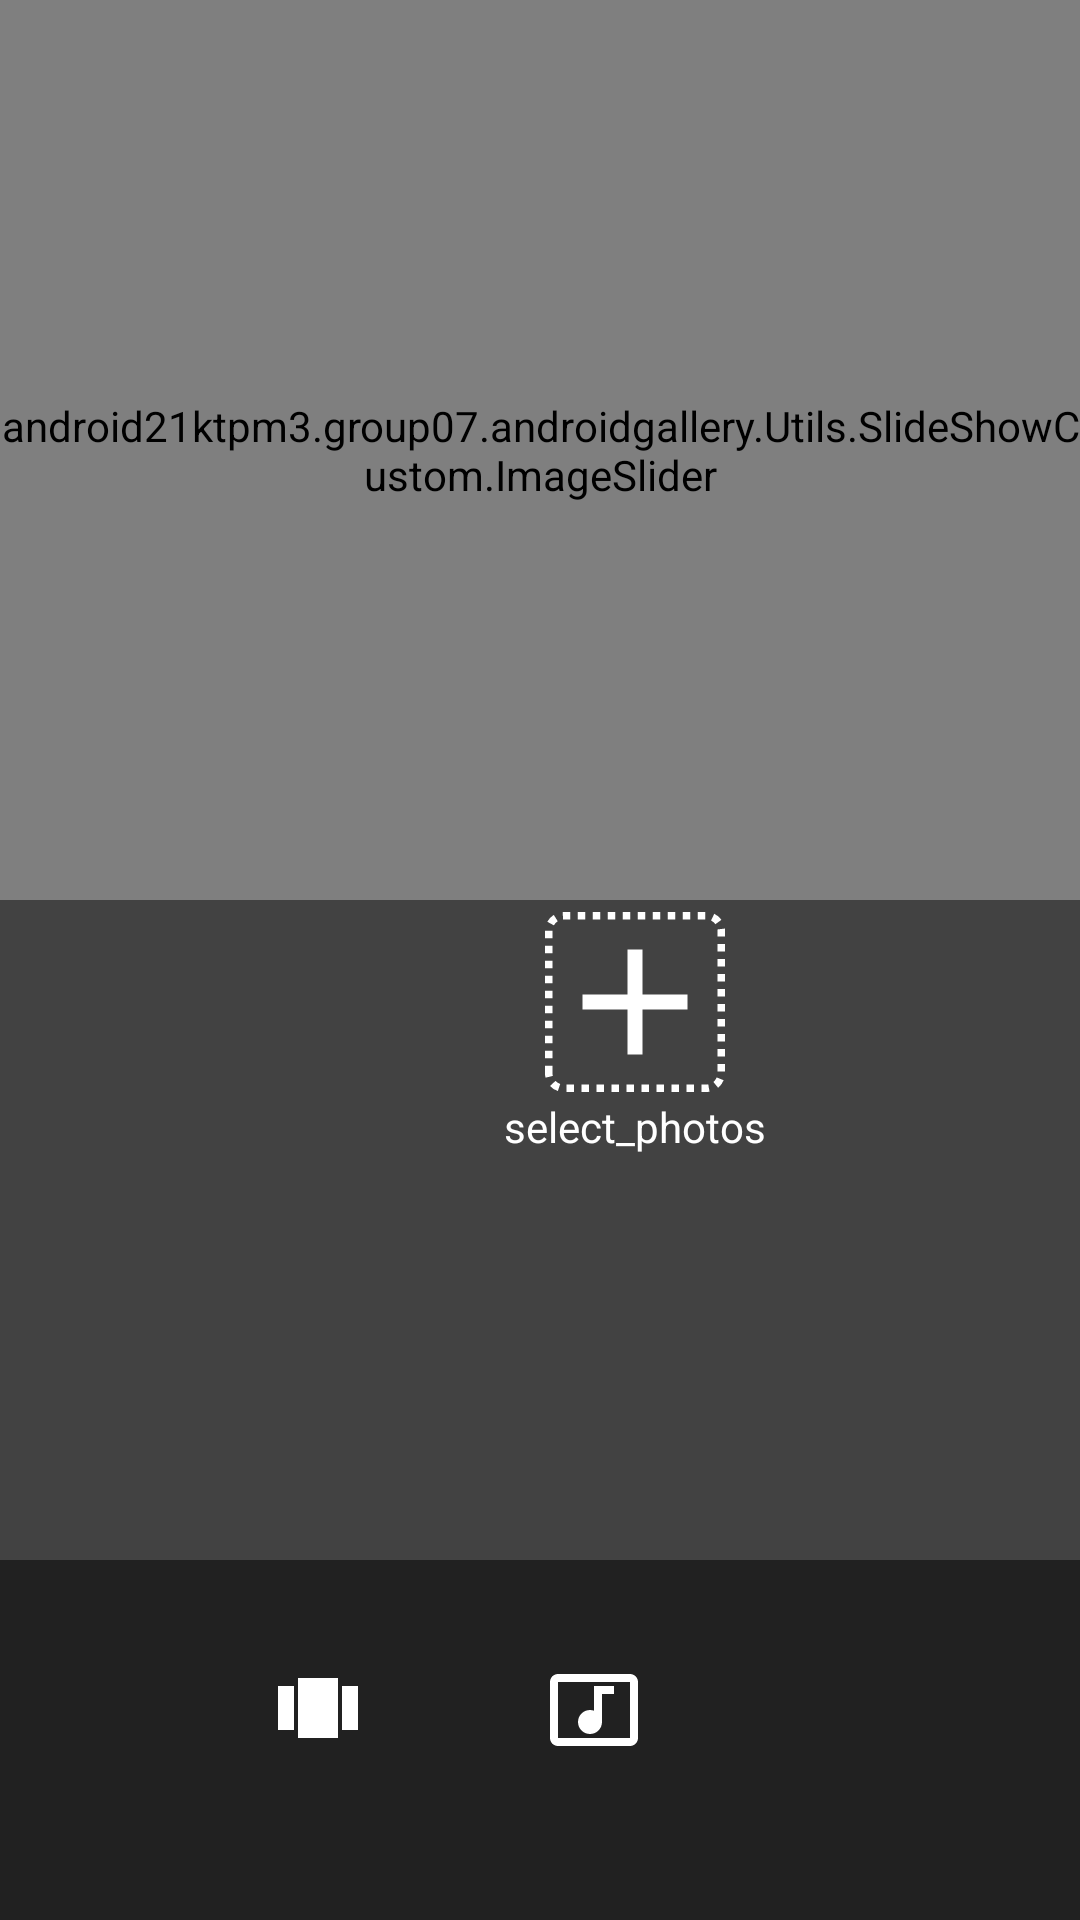

Named icons in this screenshot (1080 x 1920) and their centers, point (x, y):
add frame: point (635, 1002)
movie music: point (594, 1710)
movie transfer: point (318, 1708)
